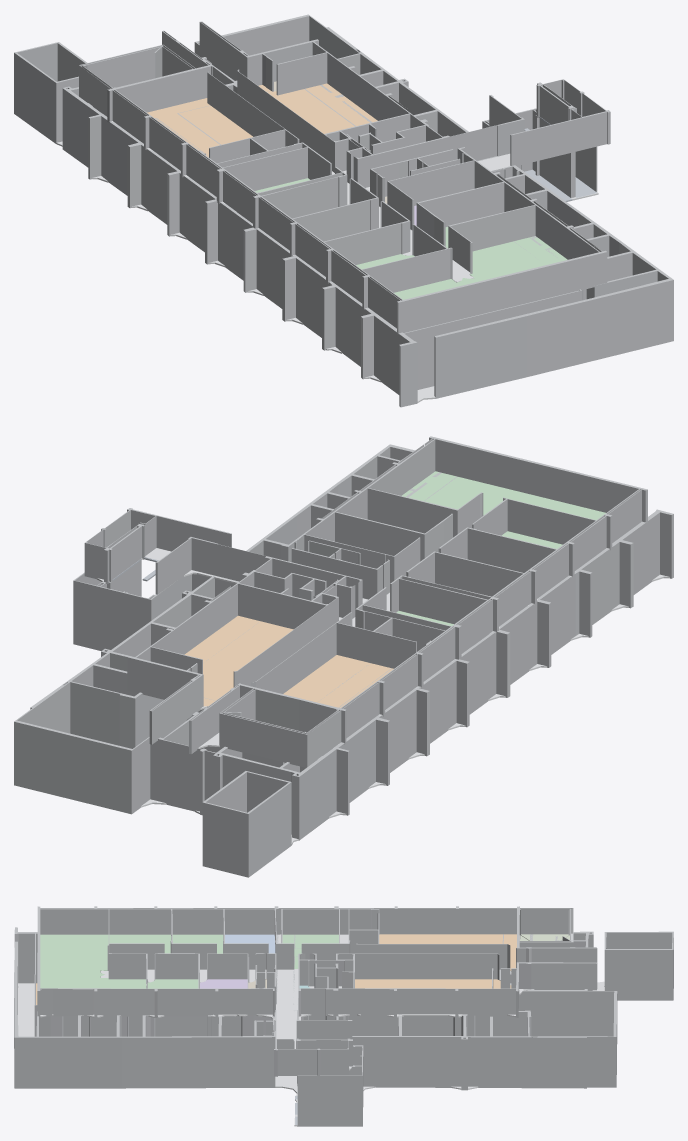
Rendered from BlocoC.glb.
3 renders of one model, top to bottom at view 1: azimuth 30°, elevation 25°; view 2: azimuth 150°, elevation 25°; view 3: azimuth 270°, elevation 25°, orthographic. The views are drawn at different scales.
Parts seen in each view (by area): view 1: C2 — Paredes, C0 — Paredes, C2 — Oficina de Operações Mecânicas, C2 — Oficina de Eletricidade e Instalações Elétricas, C2 — Lab. de Máquinas Elétricas, C0 — Circulação, C2 — Circulação, C2 — Lab. de Comandos Elétricos; view 2: C2 — Paredes, C0 — Paredes, C2 — Oficina de Eletricidade e Instalações Elétricas, C2 — Oficina de Operações Mecânicas, C2 — Lab. de Máquinas Elétricas, C0 — Circulação, C2 — Lab. de Comandos Elétricos; view 3: C2 — Paredes, C0 — Paredes, C2 — Lab. de Comandos Elétricos, C2 — Circulação, C2 — Oficina de Operações Mecânicas, C2 — Lab. de Máquinas Elétricas, C0 — Circulação, C2 — Oficina de Eletricidade e Instalações Elétricas, C2 — Automação Predial, C2 — Lab. de Projetos, C2 — Treinamento Olimpíadas, C2 — Eletrônica Digital (+3 smaller).
Boxes of the visible parts, x1,y1,x2,y2 form: C2 — Paredes: [79, 21, 610, 334]; C0 — Paredes: [14, 14, 673, 407]; C2 — Oficina de Operações Mecânicas: [147, 98, 252, 157]; C2 — Oficina de Eletricidade e Instalações Elétricas: [258, 83, 377, 133]; C2 — Lab. de Máquinas Elétricas: [460, 236, 567, 284]; C0 — Circulação: [56, 141, 598, 402]; C2 — Circulação: [112, 121, 510, 329]; C2 — Lab. de Comandos Elétricos: [394, 279, 464, 299]; C2 — Paredes: [84, 436, 647, 767]; C0 — Paredes: [14, 444, 673, 877]; C2 — Oficina de Eletricidade e Instalações Elétricas: [184, 615, 293, 706]; C2 — Oficina de Operações Mecânicas: [283, 655, 393, 707]; C2 — Lab. de Máquinas Elétricas: [401, 471, 541, 515]; C0 — Circulação: [141, 574, 669, 844]; C2 — Lab. de Comandos Elétricos: [533, 497, 605, 520]; C2 — Paredes: [37, 906, 597, 1076]; C0 — Paredes: [14, 927, 673, 1126]; C2 — Lab. de Comandos Elétricos: [40, 934, 108, 972]; C2 — Circulação: [40, 933, 572, 1070]; C2 — Oficina de Operações Mecânicas: [379, 934, 516, 970]; C2 — Lab. de Máquinas Elétricas: [40, 972, 146, 988]; C0 — Circulação: [18, 981, 604, 1126]; C2 — Oficina de Eletricidade e Instalações Elétricas: [355, 979, 511, 988]; C2 — Automação Predial: [282, 934, 338, 968]; C2 — Lab. de Projetos: [109, 934, 171, 953]; C2 — Treinamento Olimpíadas: [225, 934, 275, 953]; C2 — Eletrônica Digital: [172, 934, 223, 953].
Bounding box in the file's own units: 329 × 78.7 × 618.
